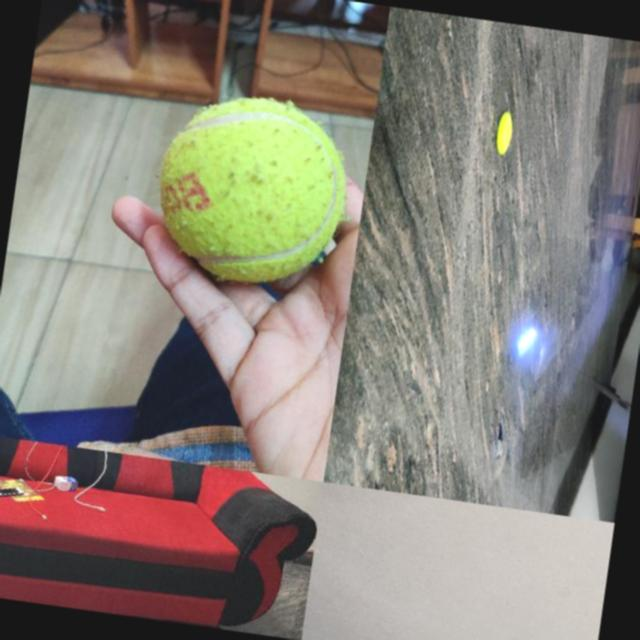Tennis Ball: (148, 85, 360, 298), (494, 110, 515, 156)
